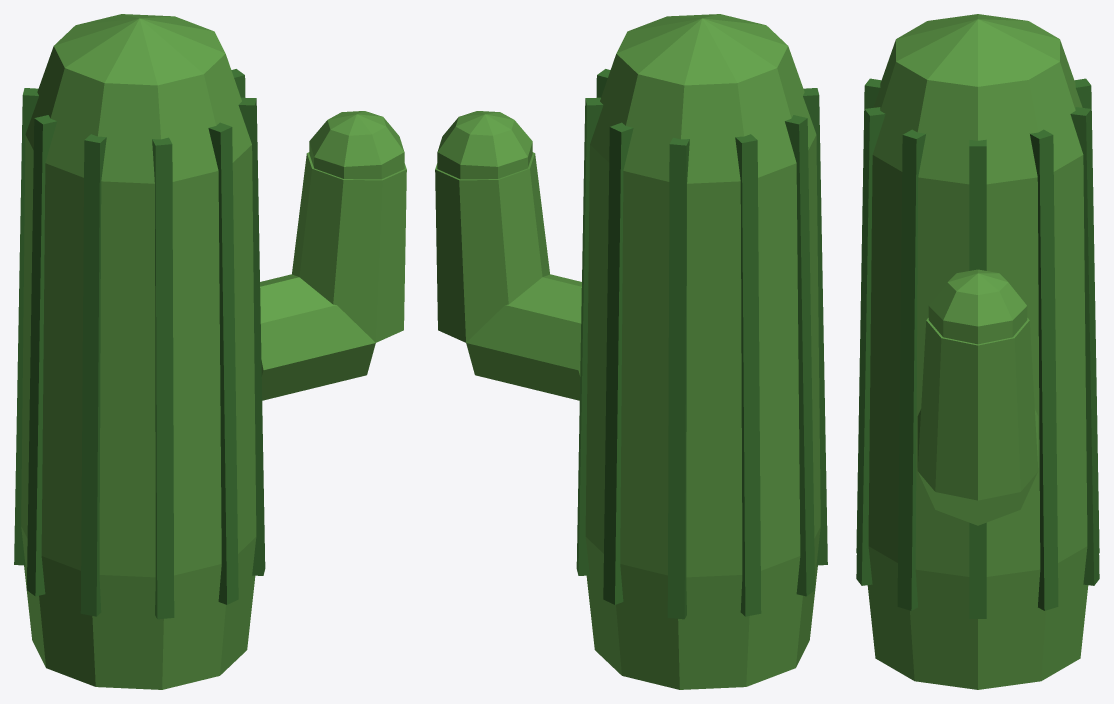
The model's file is map3_cactus_b_v01.glb.
3 views of the same model, side by side, from view 1: azimuth 30°, elevation 25°; view 2: azimuth 150°, elevation 25°; view 3: azimuth 270°, elevation 25° (orthographic).
Parts seen in each view (by area): view 1: cactus; view 2: cactus; view 3: cactus.
Boxes of the visible parts, x1,y1,x2,y2 form: cactus: (14, 14, 406, 689); cactus: (435, 14, 827, 689); cactus: (856, 14, 1099, 689).
Size of the model in its own units: 0.9897 by 1.6 by 0.564.
